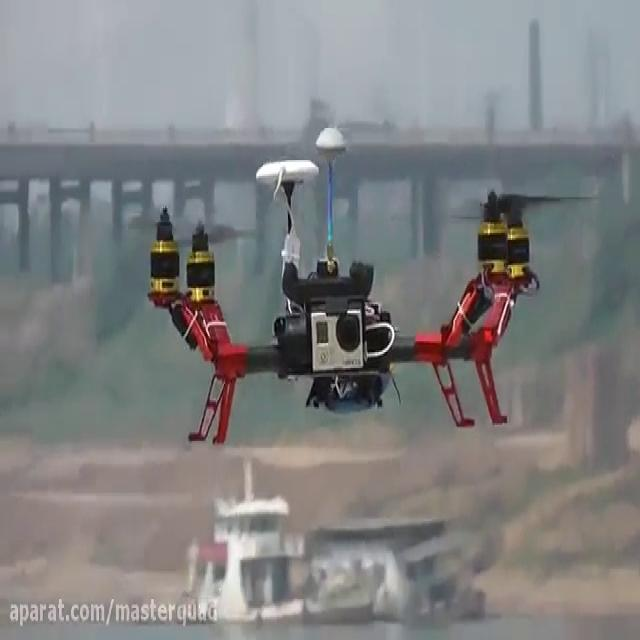drone: (122, 119, 606, 445)
